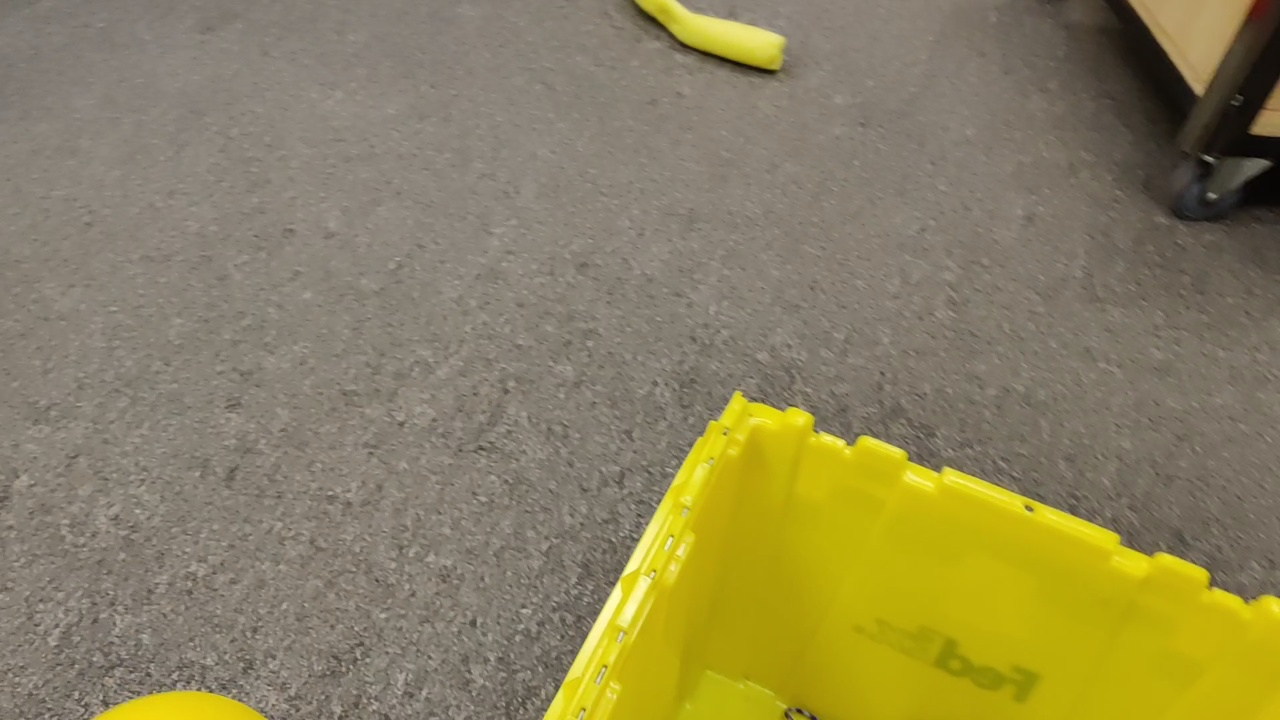Ball: (88, 692, 270, 720)
